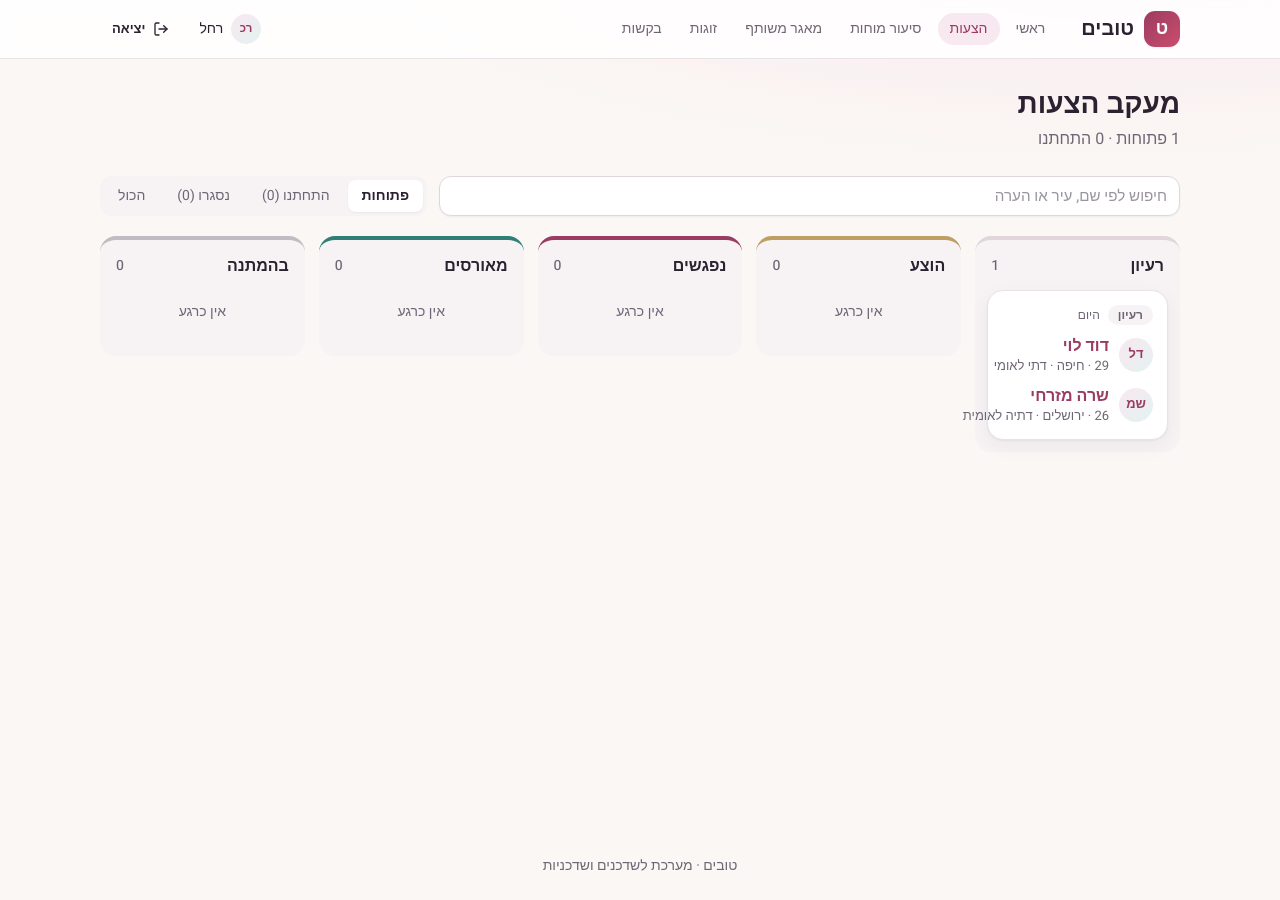
Test: proposals board › changes a status from the dialog and saves it
Click the button "דוד": (1078, 365) left=987, top=290, right=1168, bottom=440
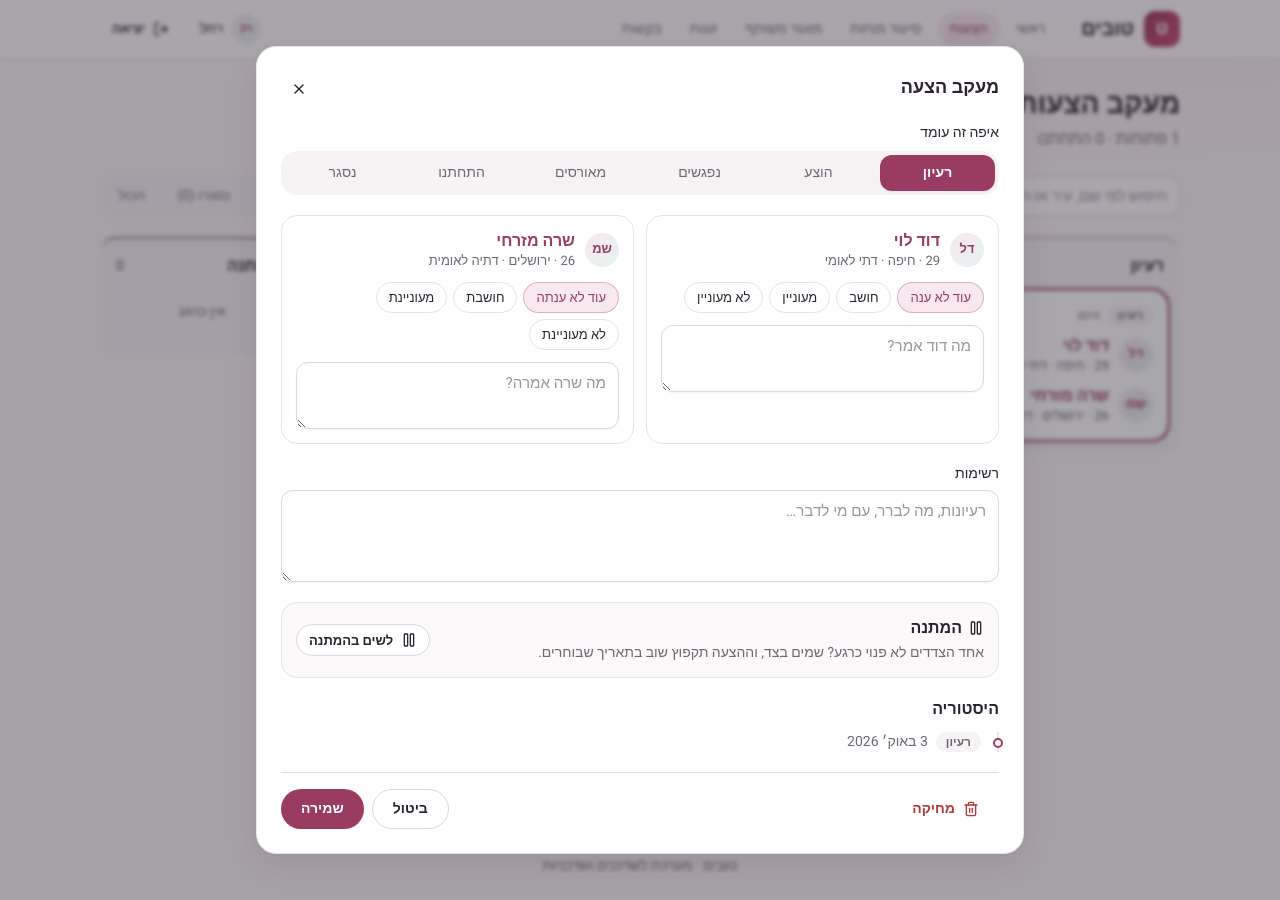
Click the radio button labelled "נפגשים": (700, 173) left=642, top=155, right=757, bottom=191
(page scrolled)
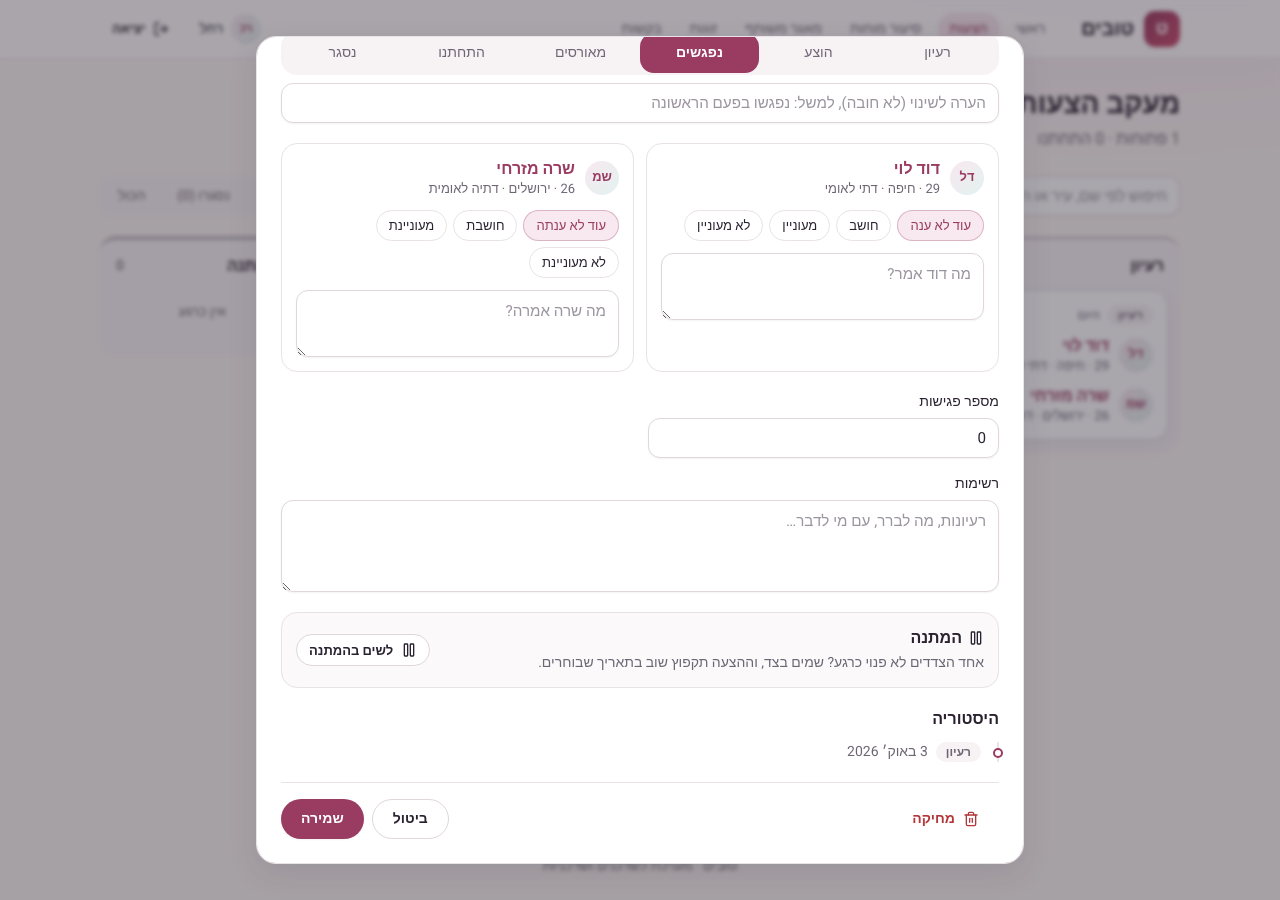
Click the button "שמירה": (322, 820) left=281, top=800, right=364, bottom=840
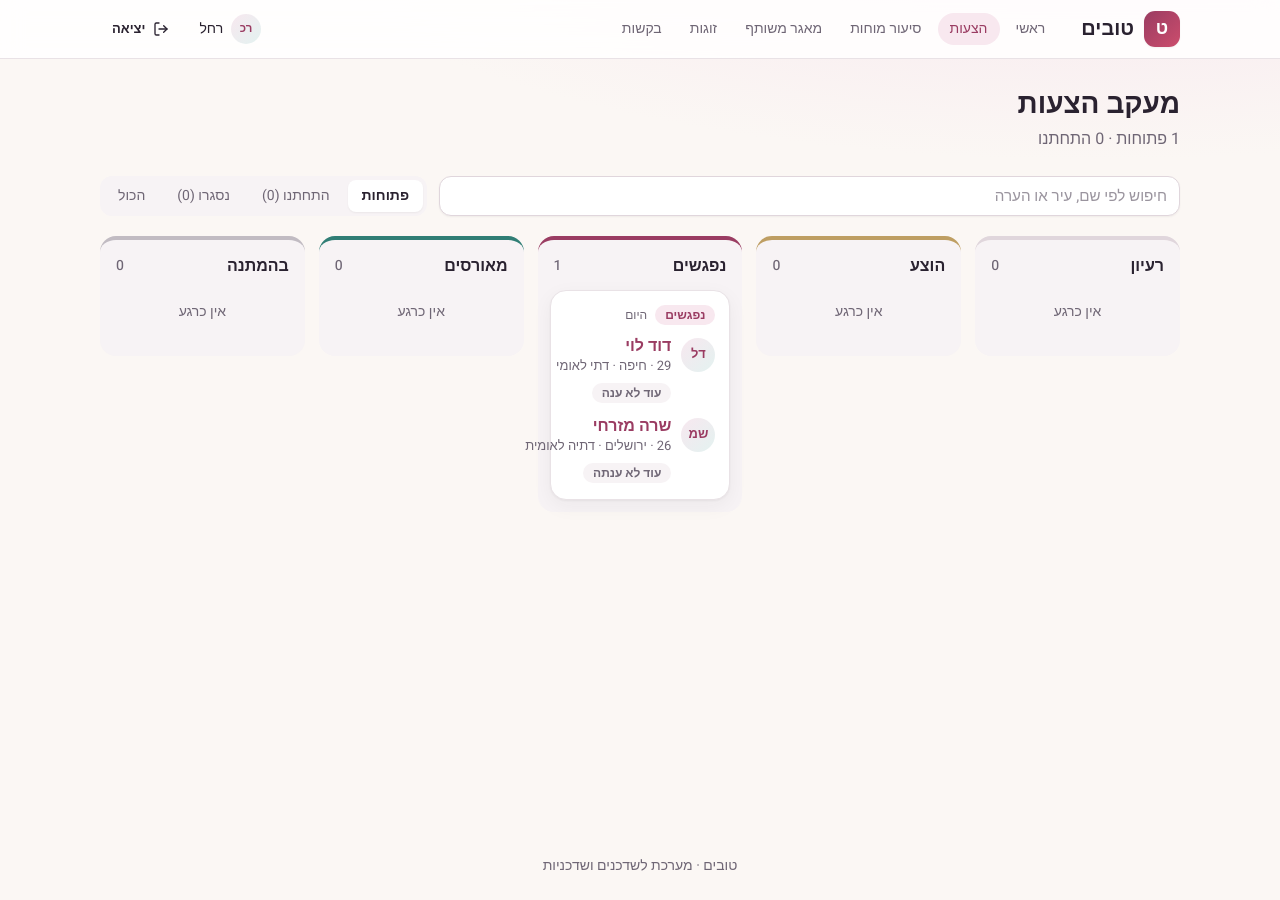
Result: the text "1" is shown at left=554, top=256, right=562, bottom=276
